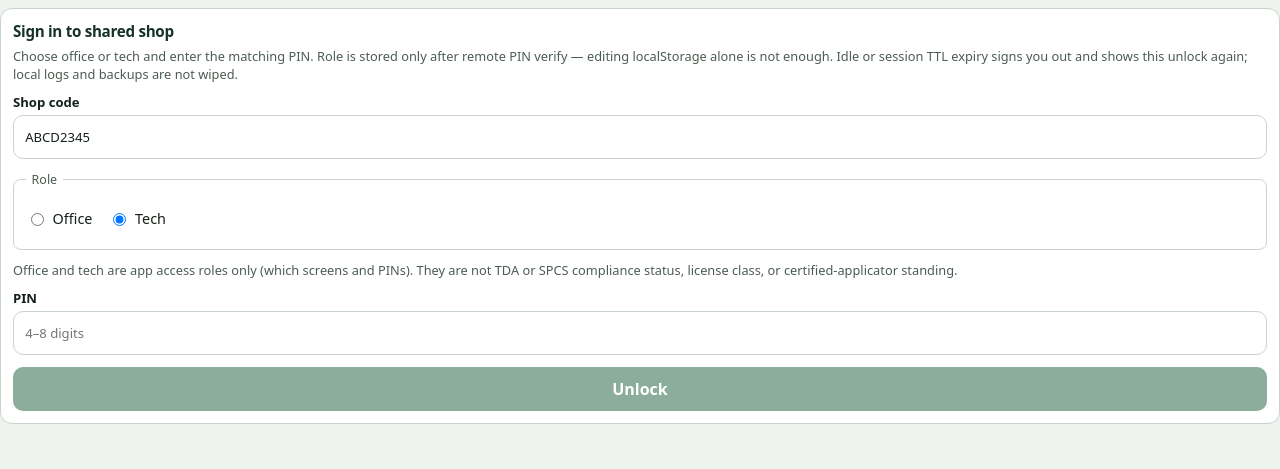
Test case: ShopSessionGate: sign in › a rejected sign-in shows a generic error and re-enables Unlock
The width and height of the screenshot is (1280, 469).
Step 1. Type "1234" into the password field named "Role PIN" → (640, 334), box [13, 312, 1267, 356]
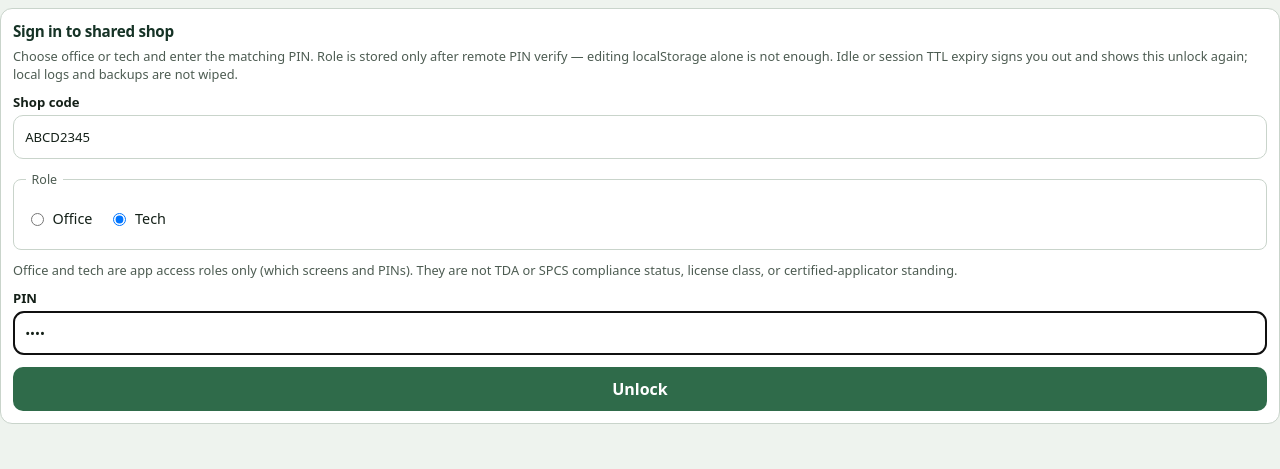
Step 2. Click the button "Unlock" → (640, 389), box [13, 367, 1267, 411]
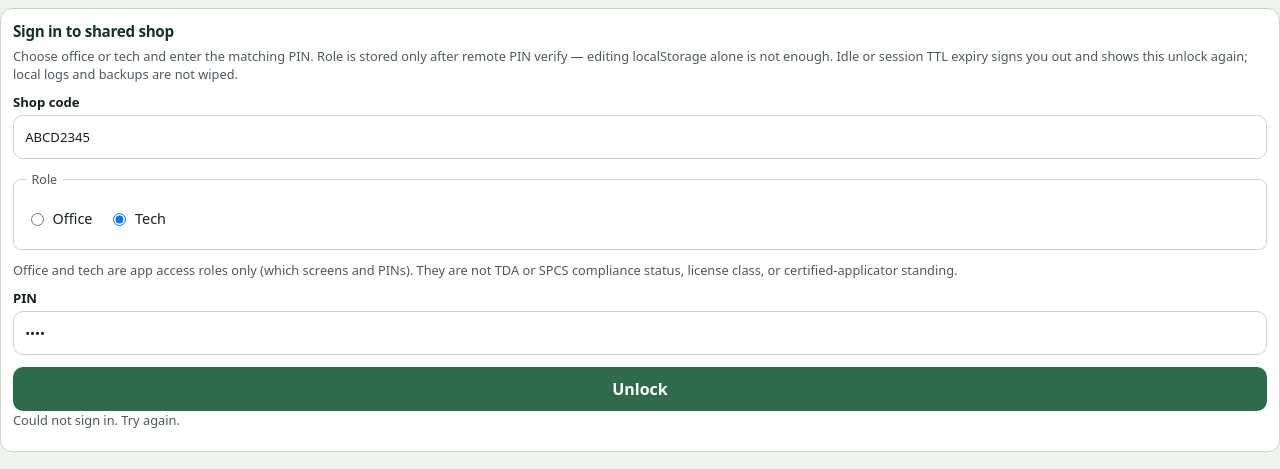
Expected: the button "Unlock" is enabled, [13, 367, 1267, 411]
Expected: the message reads "Could not sign in. Try again.", [13, 411, 180, 429]
